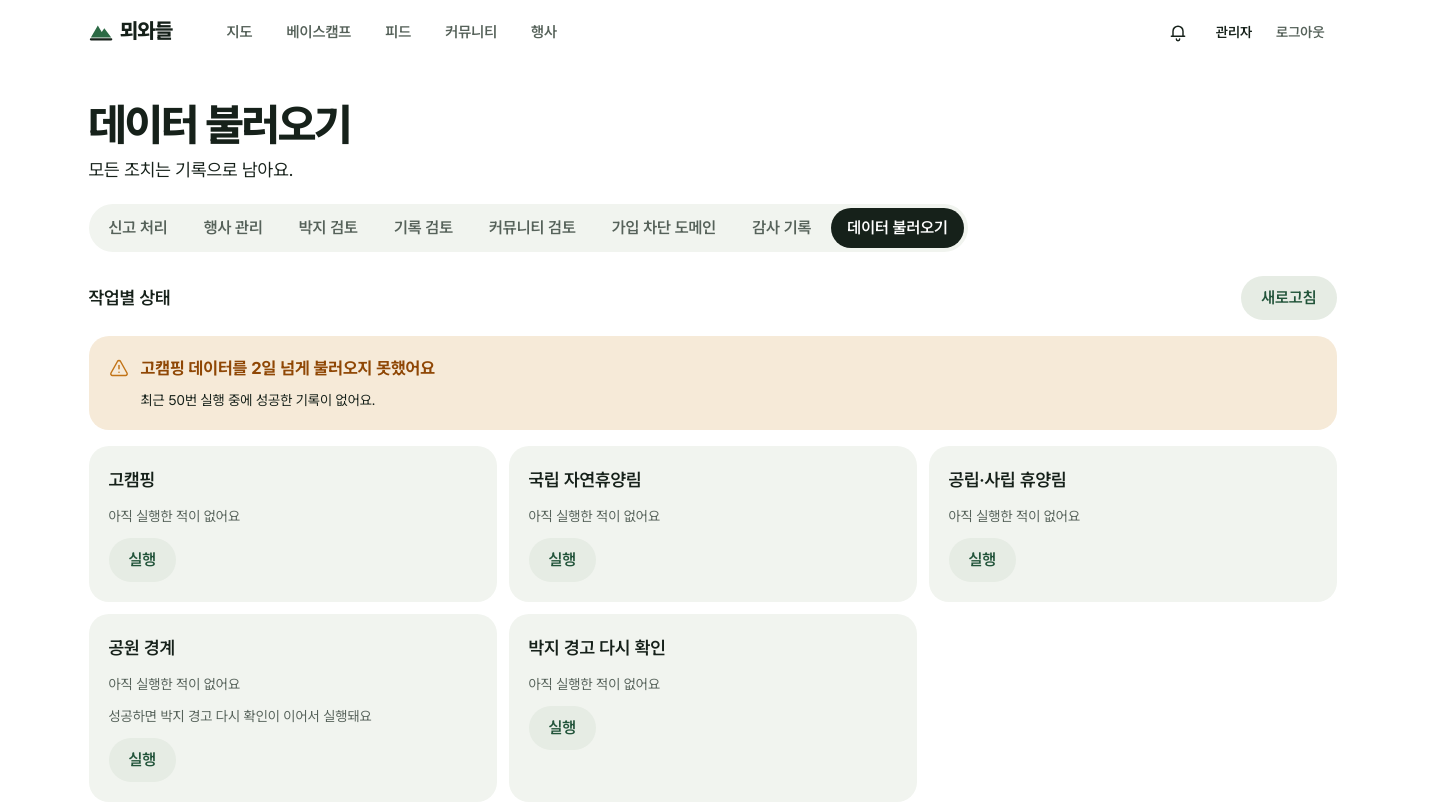
관리자 데이터 불러오기 › 실행을 누르면 설명이 든 확인 대화상자가 뜨고, 취소하면 작업을 시작하지 않는다
Click the button "실행" below "성공하면 박지 경고 다시 확인이 이어서 실행돼요": [142, 760] box [108,738,176,782]
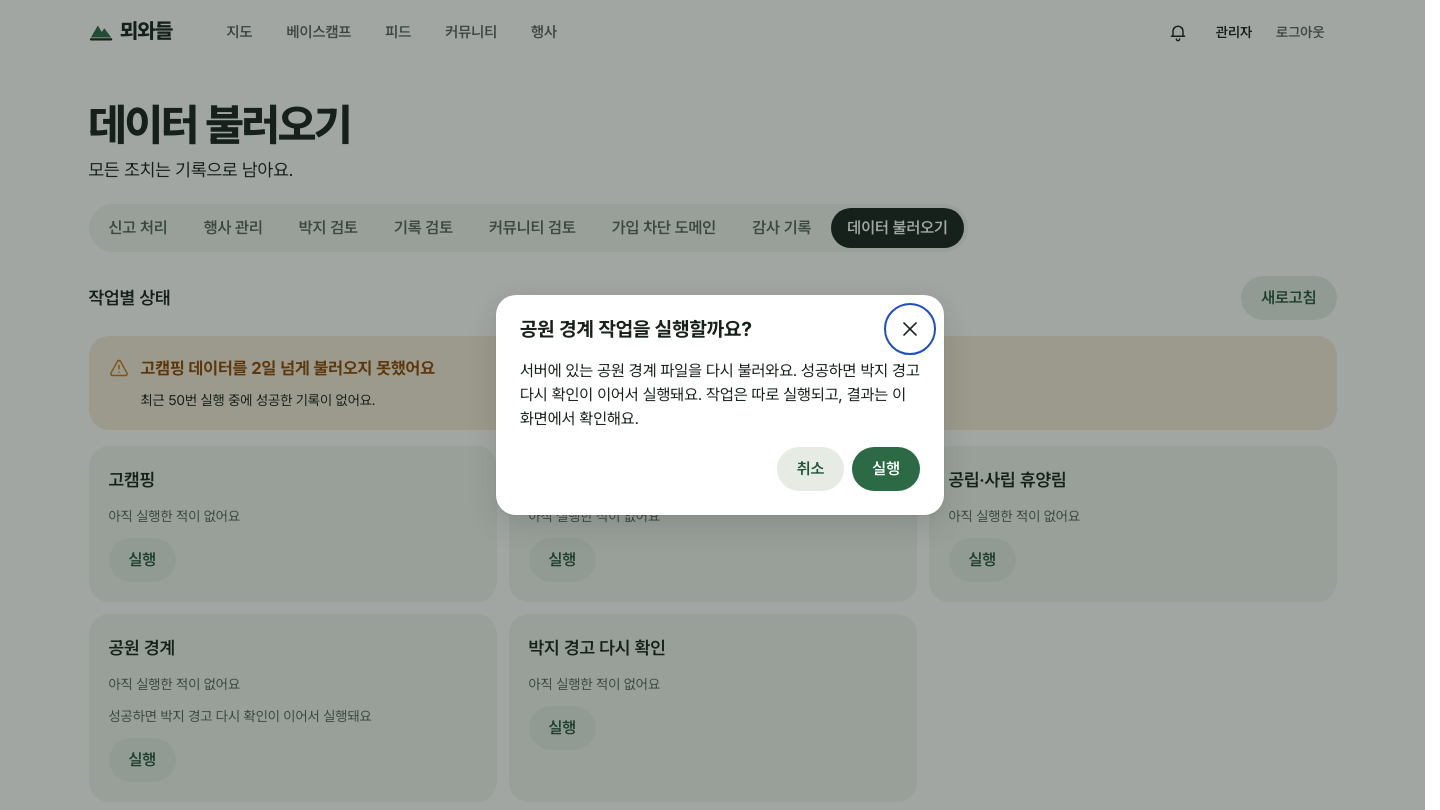
Check: the dialog shows "공원 경계 작업을 실행할까요?", box [520,317,752,341]
Check: the dialog shows "서버에 있는 공원 경계 파일을 다시 불러와요.", box [520,361,920,404]
Click the button "취소": [811, 469] box [777,447,844,491]
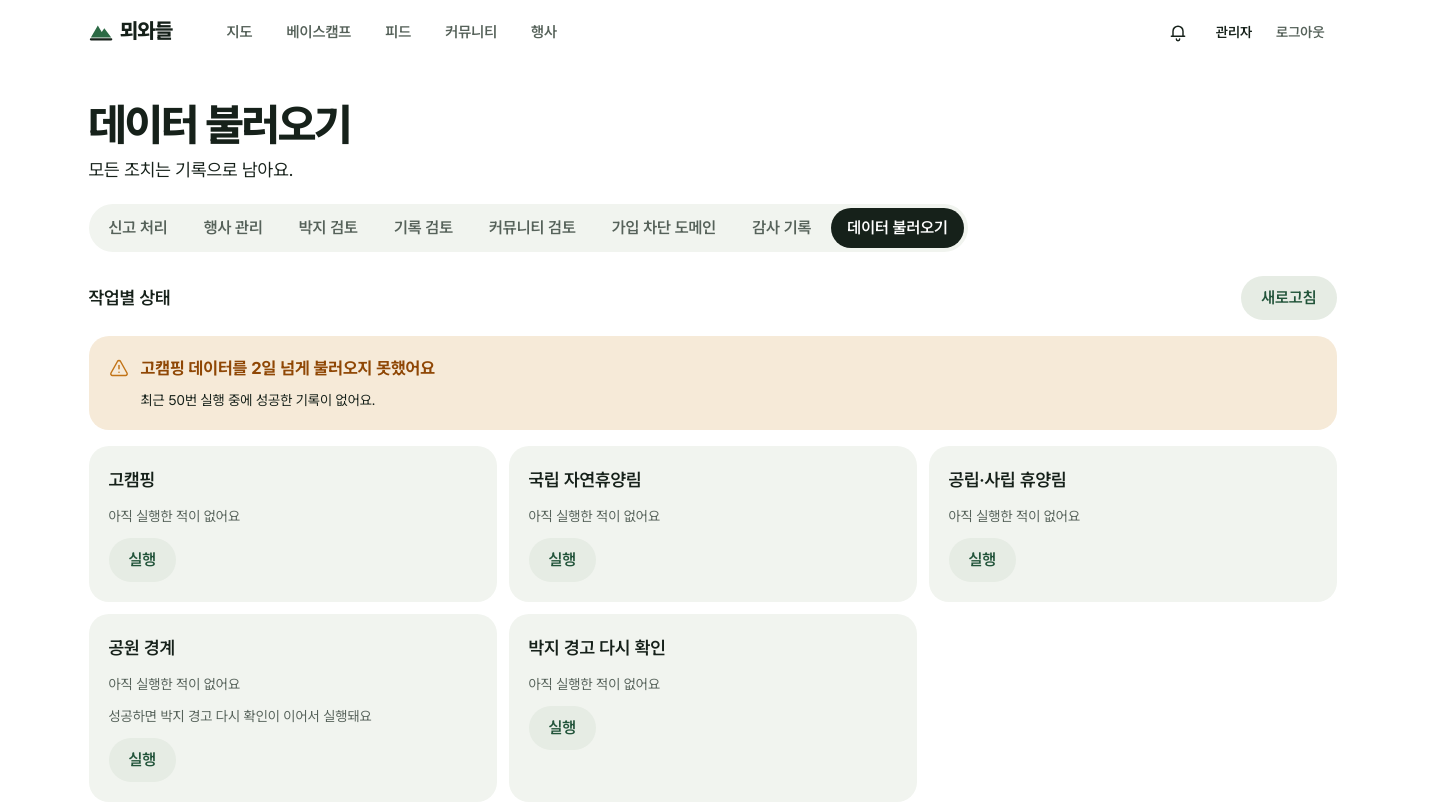
Check: the dialog is gone
